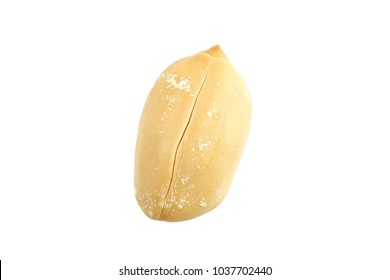peanut: (131, 43, 251, 222)
